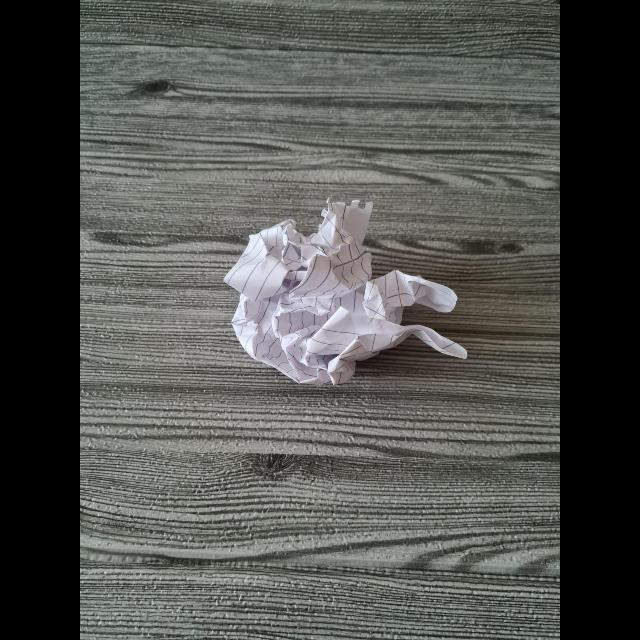scrap_paper: (226, 201, 474, 379)
